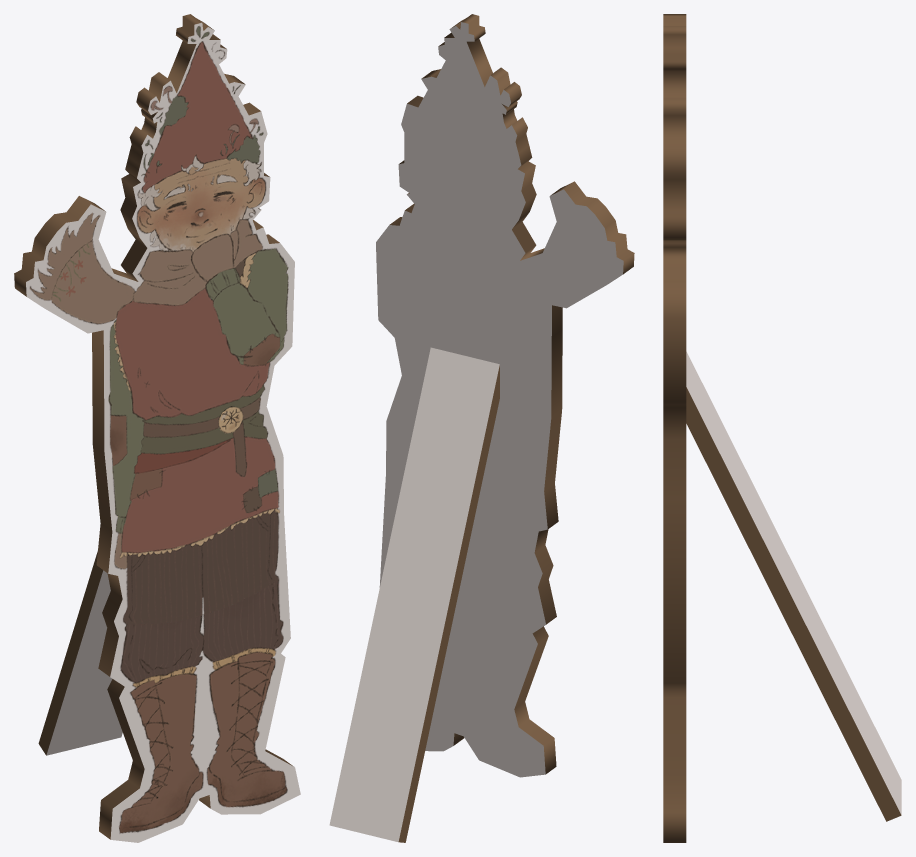
Rendered from JohanSmutsig_Happy.fbx.
3 renders of one model, left to right at view 1: azimuth 30°, elevation 25°; view 2: azimuth 150°, elevation 25°; view 3: azimuth 270°, elevation 25°, orthographic. The views are drawn at different scales.
Parts seen in each view (by area): view 1: JohanSmutsig_Happy; view 2: JohanSmutsig_Happy; view 3: JohanSmutsig_Happy.
Boxes of the visible parts, <box> form: JohanSmutsig_Happy: <box>14,14,300,842</box>; JohanSmutsig_Happy: <box>329,14,634,842</box>; JohanSmutsig_Happy: <box>663,14,901,842</box>.
Size of the model in its own units: 50.96 by 143 by 39.1.
Materials: 1 (1 with a texture image).
